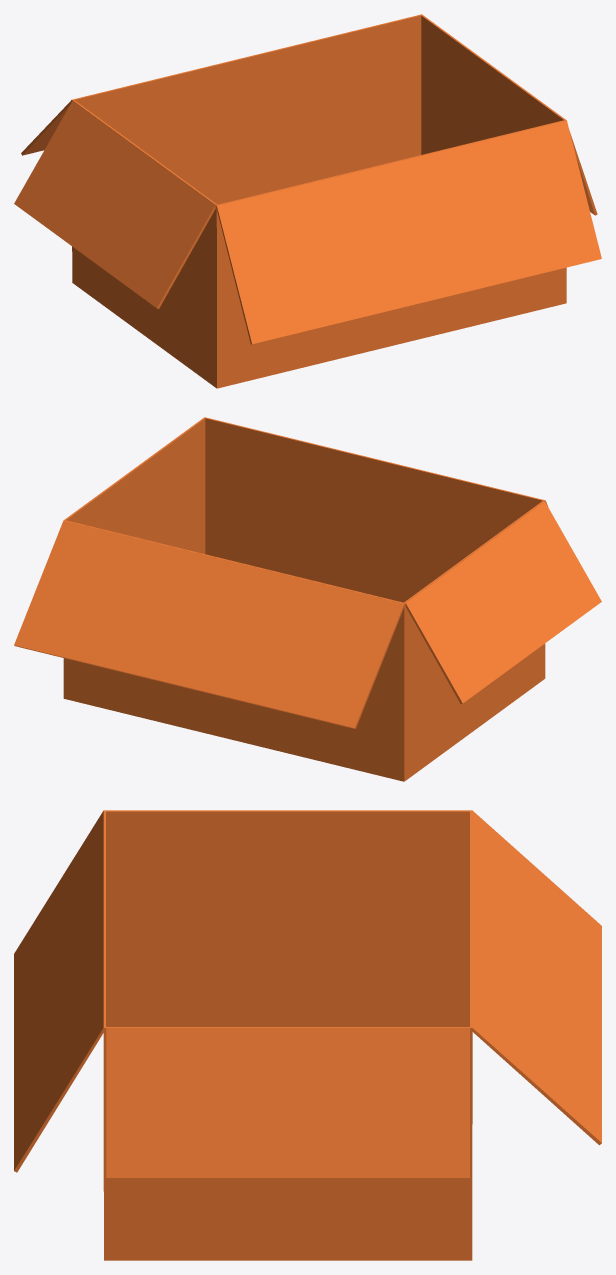
The model's file is open box.obj.
3 renders of one model, top to bottom at view 1: azimuth 30°, elevation 25°; view 2: azimuth 150°, elevation 25°; view 3: azimuth 270°, elevation 25°, orthographic. The views are drawn at different scales.
Visible parts, largest first — view 1: Plane.013; view 2: Plane.013; view 3: Plane.013.
Boxes of the visible parts, x1,y1,x2,y2 form: Plane.013: [14, 14, 601, 388]; Plane.013: [14, 417, 601, 781]; Plane.013: [14, 810, 601, 1260].
Size of the model in its own units: 0.4149 by 0.1645 by 0.3766.
